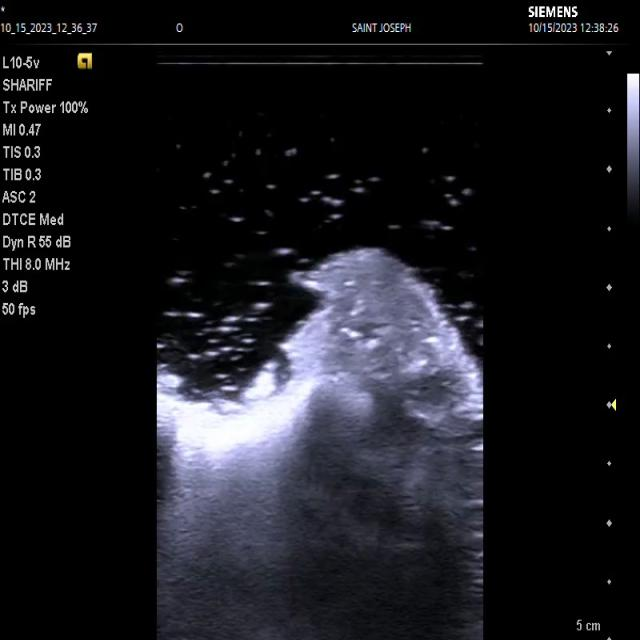tissue: (157, 249, 482, 640)
